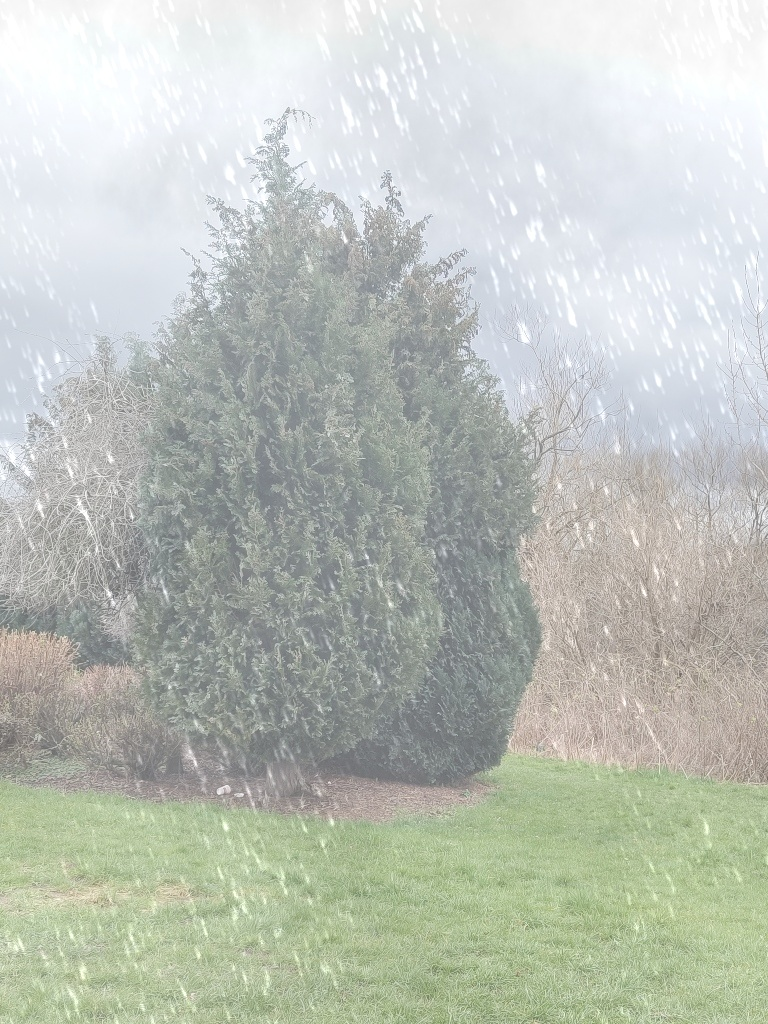Tree: (123, 91, 448, 804), (357, 162, 548, 792)
